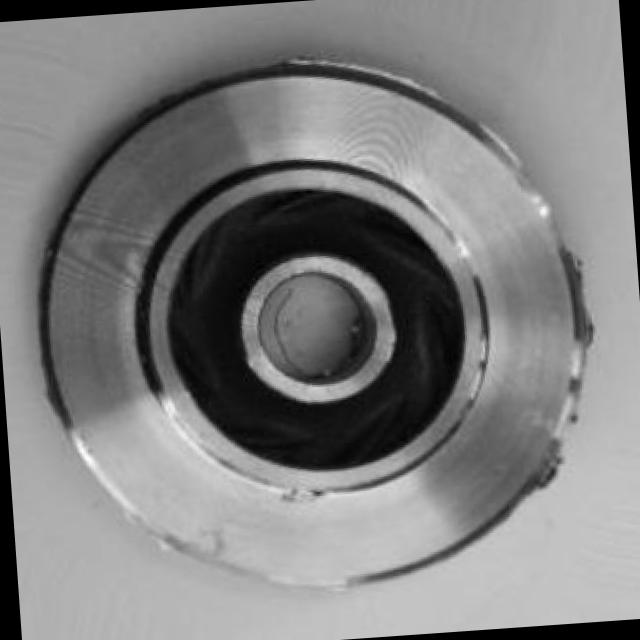Defect: (548, 246, 610, 360)
